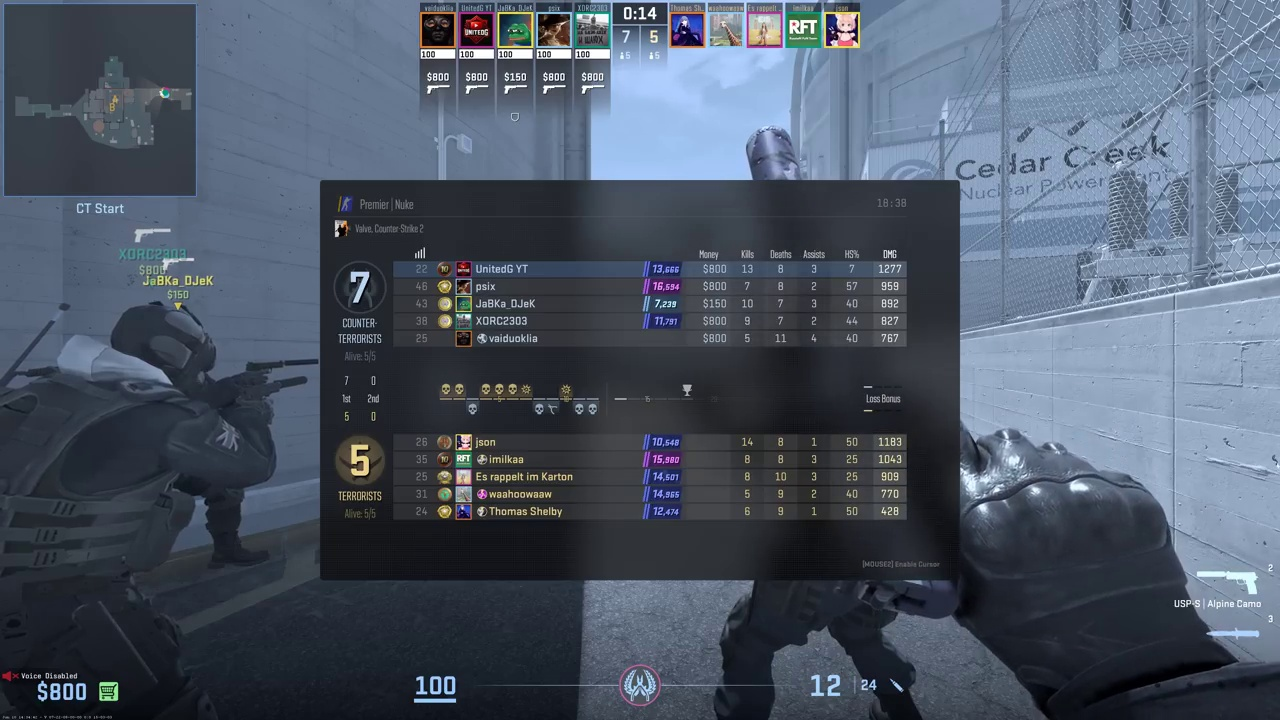CT: (7, 313, 257, 714), (730, 520, 926, 720)
